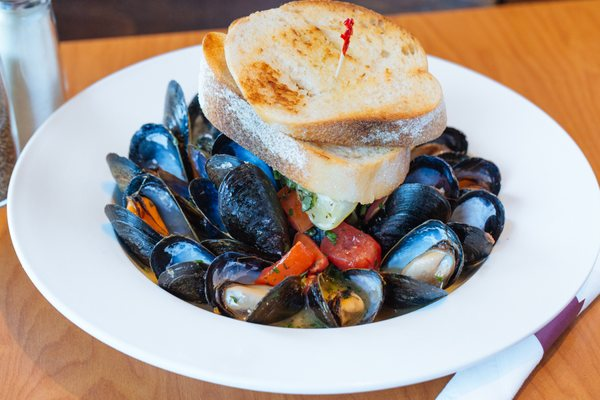soup: (197, 0, 450, 225)
